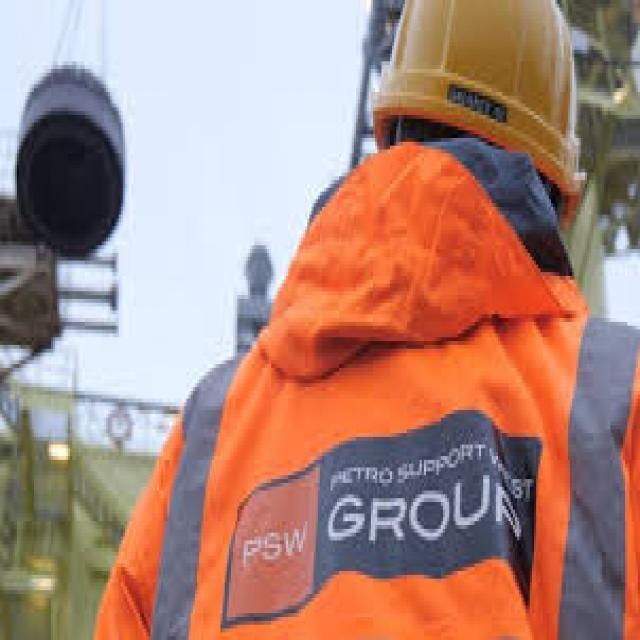reflective_jacket: (103, 144, 633, 639)
safety_helmet: (370, 0, 593, 199)
